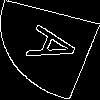A: (24, 24, 92, 71)
